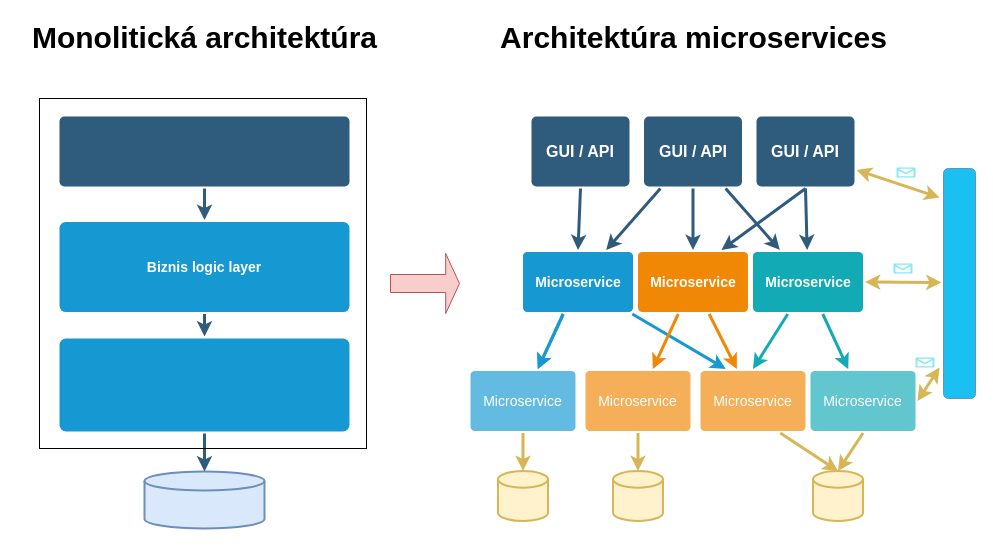
Image size: 993x546. Some labels were removed from this diagram. The box of each missing label's shape, as (x1, y1, x2, y2) in pixels:
Data access layer: (59, 338, 349, 431)
Fronta správ: (942, 168, 976, 398)
GUI / API layer: (59, 116, 349, 186)
